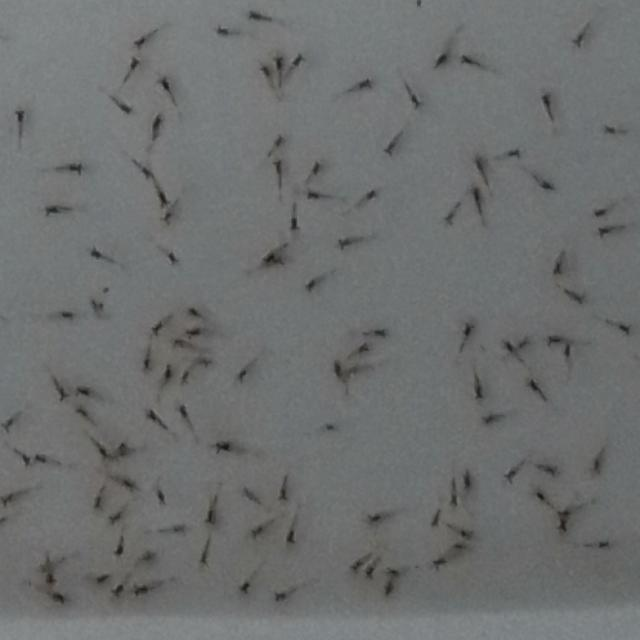shrimp-seed: (150, 113, 164, 139), (48, 591, 68, 609), (115, 100, 134, 118), (356, 75, 374, 94), (408, 92, 425, 112), (541, 462, 559, 480), (122, 478, 140, 496), (428, 509, 444, 529), (538, 177, 556, 194), (132, 582, 148, 600), (214, 440, 230, 458), (567, 292, 585, 308), (43, 202, 59, 220), (127, 54, 143, 72), (503, 146, 521, 162), (364, 186, 382, 202), (382, 140, 398, 158), (270, 158, 284, 178), (90, 496, 106, 513), (460, 321, 476, 338), (247, 9, 264, 25), (305, 187, 320, 205), (16, 454, 32, 470), (460, 526, 476, 542), (67, 162, 83, 178), (596, 226, 612, 242), (0, 493, 15, 510), (2, 418, 17, 435), (462, 471, 477, 488), (302, 278, 317, 295), (330, 360, 344, 378), (166, 252, 180, 270), (132, 34, 146, 52), (472, 154, 486, 172), (434, 52, 448, 70), (33, 450, 48, 466), (170, 522, 186, 537), (282, 532, 297, 548), (97, 448, 113, 463), (546, 333, 562, 348), (155, 76, 170, 92), (110, 582, 124, 599), (322, 421, 339, 435), (160, 365, 174, 382), (561, 341, 575, 358), (310, 160, 324, 177), (256, 62, 270, 79), (115, 540, 128, 558), (203, 511, 218, 526), (117, 443, 132, 458), (97, 571, 111, 587), (140, 549, 156, 563), (108, 511, 122, 527), (198, 552, 212, 568), (249, 525, 263, 541), (365, 512, 381, 526), (590, 458, 604, 474), (56, 388, 70, 404), (176, 404, 190, 420), (480, 412, 494, 428), (358, 342, 372, 358), (374, 325, 388, 341), (526, 378, 540, 394), (501, 338, 515, 354), (618, 323, 634, 337), (150, 322, 164, 338), (185, 328, 201, 342), (12, 110, 26, 126), (468, 186, 482, 202), (272, 54, 286, 70), (292, 53, 306, 69), (538, 94, 552, 110), (36, 564, 50, 579), (238, 581, 252, 596), (239, 486, 253, 501), (598, 538, 612, 553), (144, 408, 158, 423), (557, 508, 573, 521), (160, 212, 173, 228), (442, 212, 455, 228), (46, 574, 60, 588), (73, 406, 87, 420), (76, 385, 90, 399), (140, 359, 154, 373), (200, 358, 214, 372), (472, 386, 486, 400), (86, 300, 100, 314), (156, 192, 170, 206), (138, 166, 152, 180), (260, 252, 274, 266), (286, 219, 300, 233), (594, 207, 608, 221), (214, 24, 228, 38), (458, 54, 472, 68), (570, 36, 584, 50), (236, 370, 248, 386), (273, 591, 287, 604), (155, 493, 168, 507), (179, 371, 192, 385), (516, 337, 529, 351), (336, 238, 349, 252), (364, 568, 378, 580), (432, 558, 444, 572), (278, 489, 290, 503), (505, 471, 517, 485), (450, 542, 464, 554), (344, 366, 356, 380), (61, 309, 73, 323), (272, 256, 284, 270), (273, 134, 285, 148), (603, 122, 615, 136), (350, 561, 362, 574), (90, 247, 102, 260), (552, 264, 563, 278), (387, 568, 399, 580), (558, 522, 570, 534), (172, 338, 184, 350), (187, 308, 199, 320), (534, 490, 545, 503), (384, 584, 395, 596), (450, 497, 460, 509)
